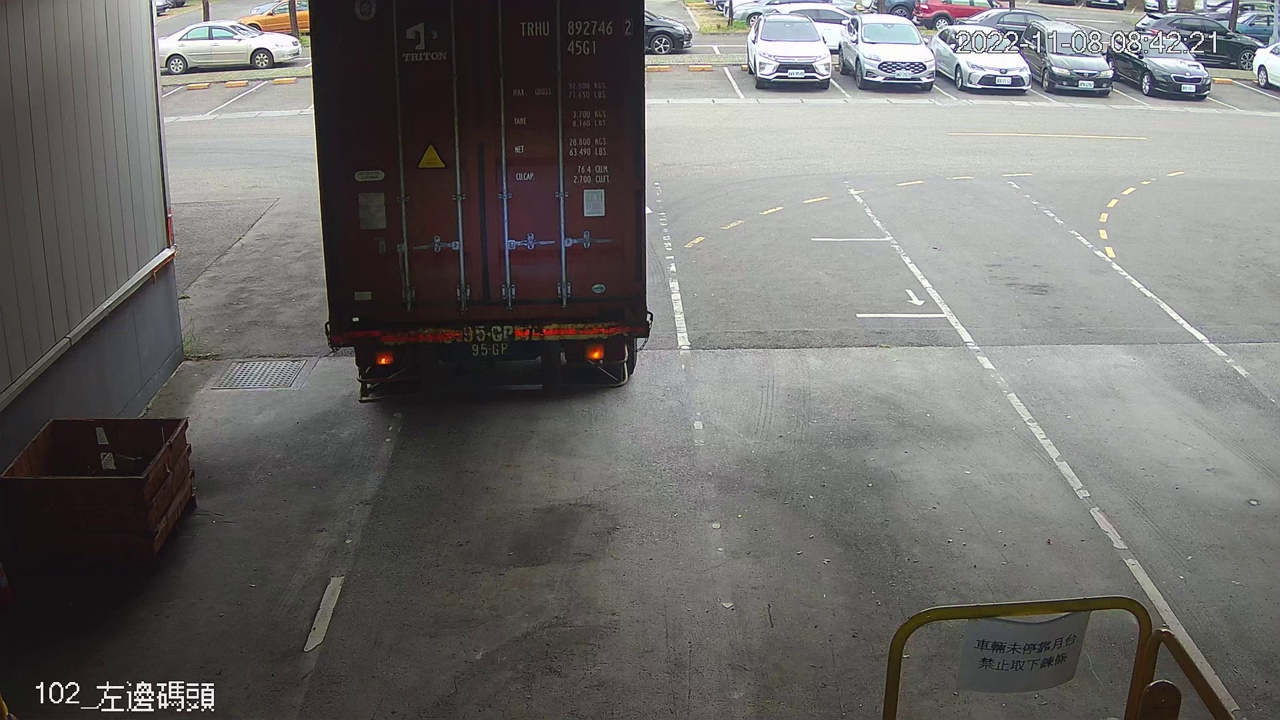container: (514, 12, 638, 60)
